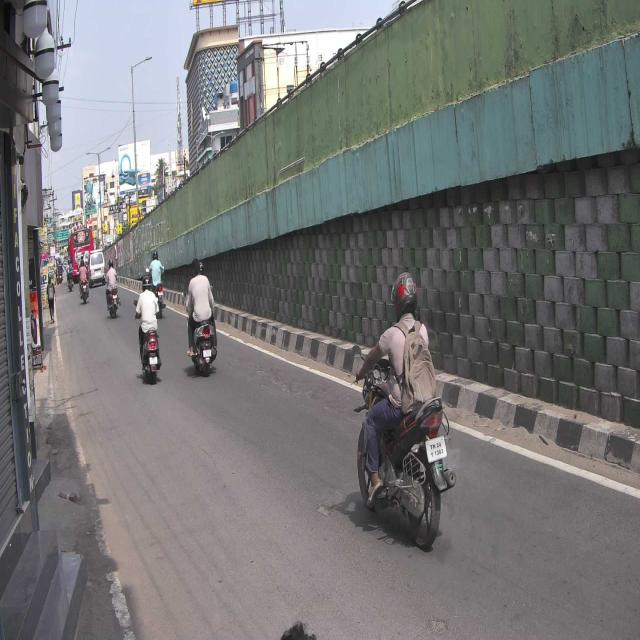single_rider: (354, 266, 456, 552)
